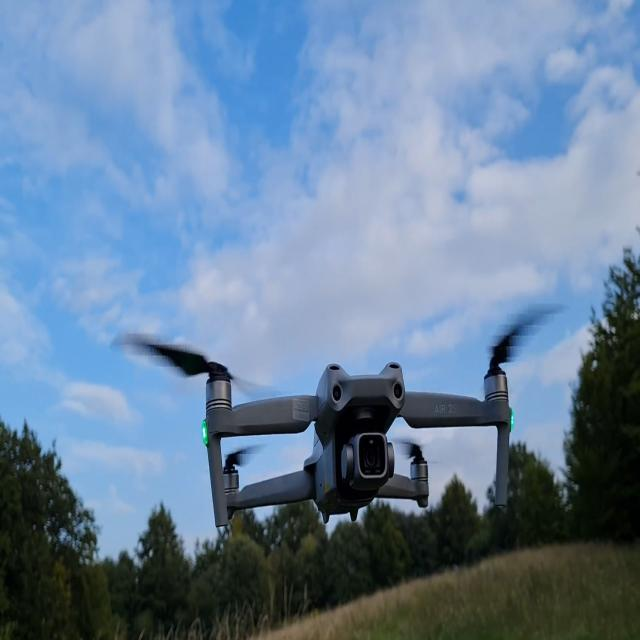drone: (110, 302, 569, 531)
